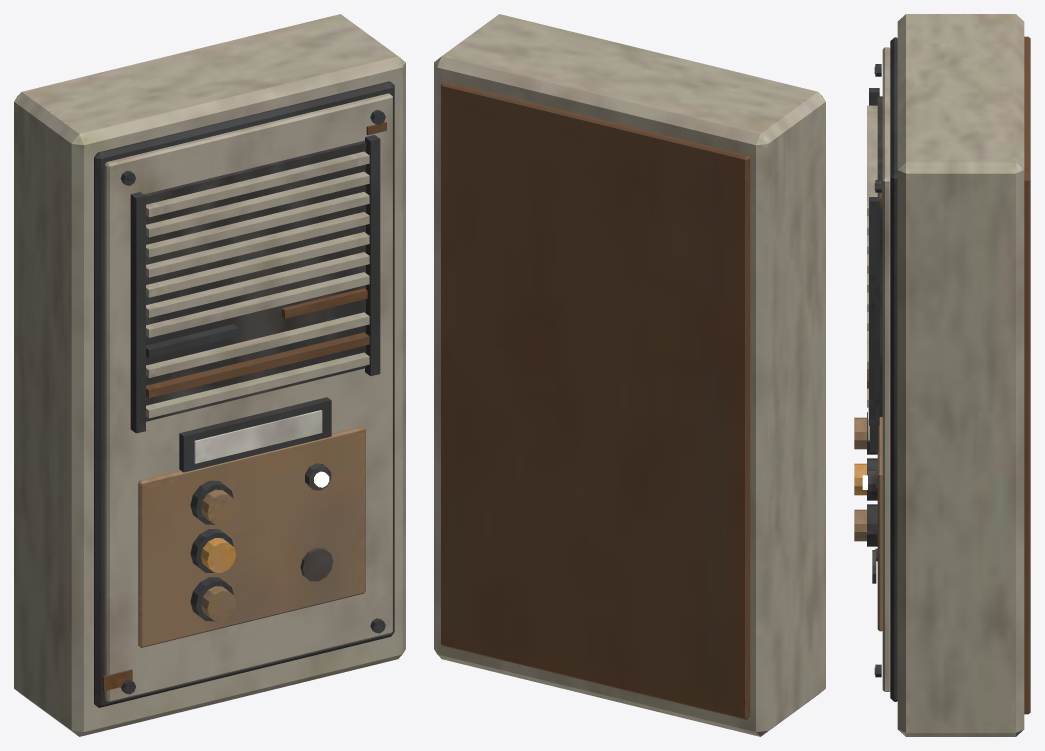
File: O07_intercom_speaker.glb
3 renders of one model, left to right at view 1: azimuth 30°, elevation 25°; view 2: azimuth 150°, elevation 25°; view 3: azimuth 270°, elevation 25°, orthographic. The views are drawn at different scales.
Parts seen in each view (by area): view 1: Intercom housing; view 2: Intercom housing; view 3: Intercom housing.
Boxes of the visible parts, x1,y1,x2,y2 form: Intercom housing: [14, 14, 405, 736]; Intercom housing: [434, 14, 825, 736]; Intercom housing: [854, 14, 1030, 736].
Bounding box in the file's own units: 0.174 × 0.3 × 0.0835.
8 materials, 7 textured.
